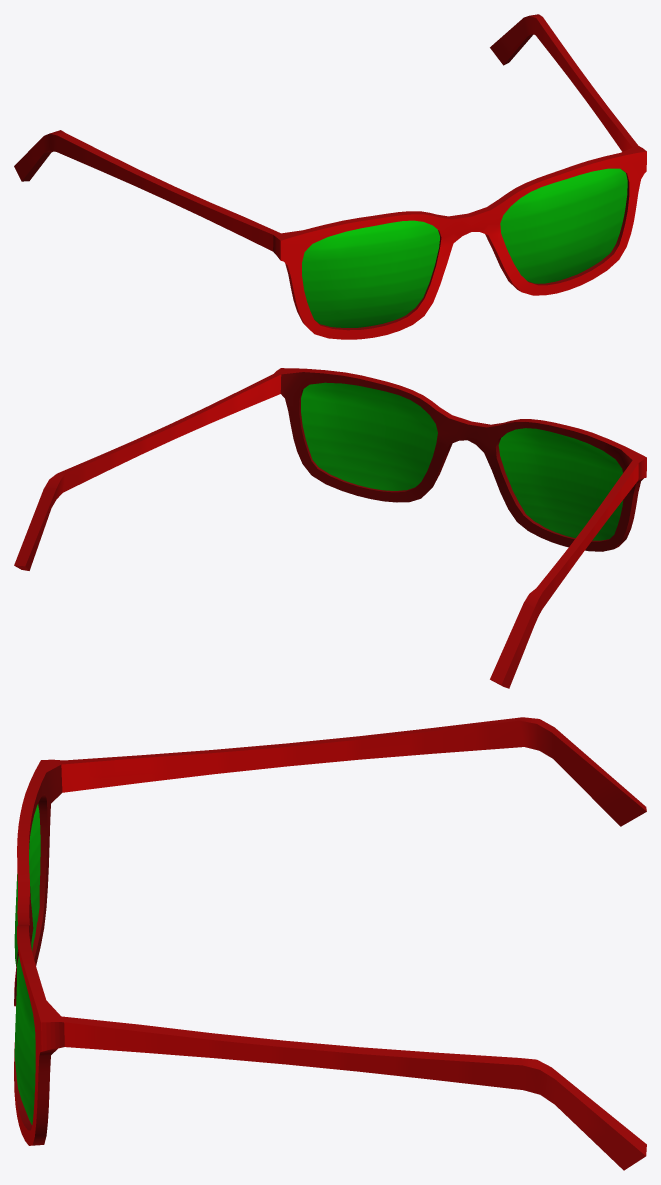
The model's file is BSMC_Outfit_Face_ShadedGlasses.obj.
3 views of the same model, one above another, from view 1: azimuth 30°, elevation 25°; view 2: azimuth 150°, elevation 25°; view 3: azimuth 270°, elevation 25° (orthographic). The views are drawn at different scales.
Parts seen in each view (by area): view 1: BSMC_Outfit_Face_ShadedGlasses_0; view 2: BSMC_Outfit_Face_ShadedGlasses_0; view 3: BSMC_Outfit_Face_ShadedGlasses_0.
Part boxes in pixels (bbox=[...]): BSMC_Outfit_Face_ShadedGlasses_0: bbox=[14, 14, 646, 339]; BSMC_Outfit_Face_ShadedGlasses_0: bbox=[14, 368, 646, 688]; BSMC_Outfit_Face_ShadedGlasses_0: bbox=[14, 717, 646, 1170].
Size of the model in its own units: 0.1937 by 0.0448 by 0.1474.
1 material, 1 textured.
